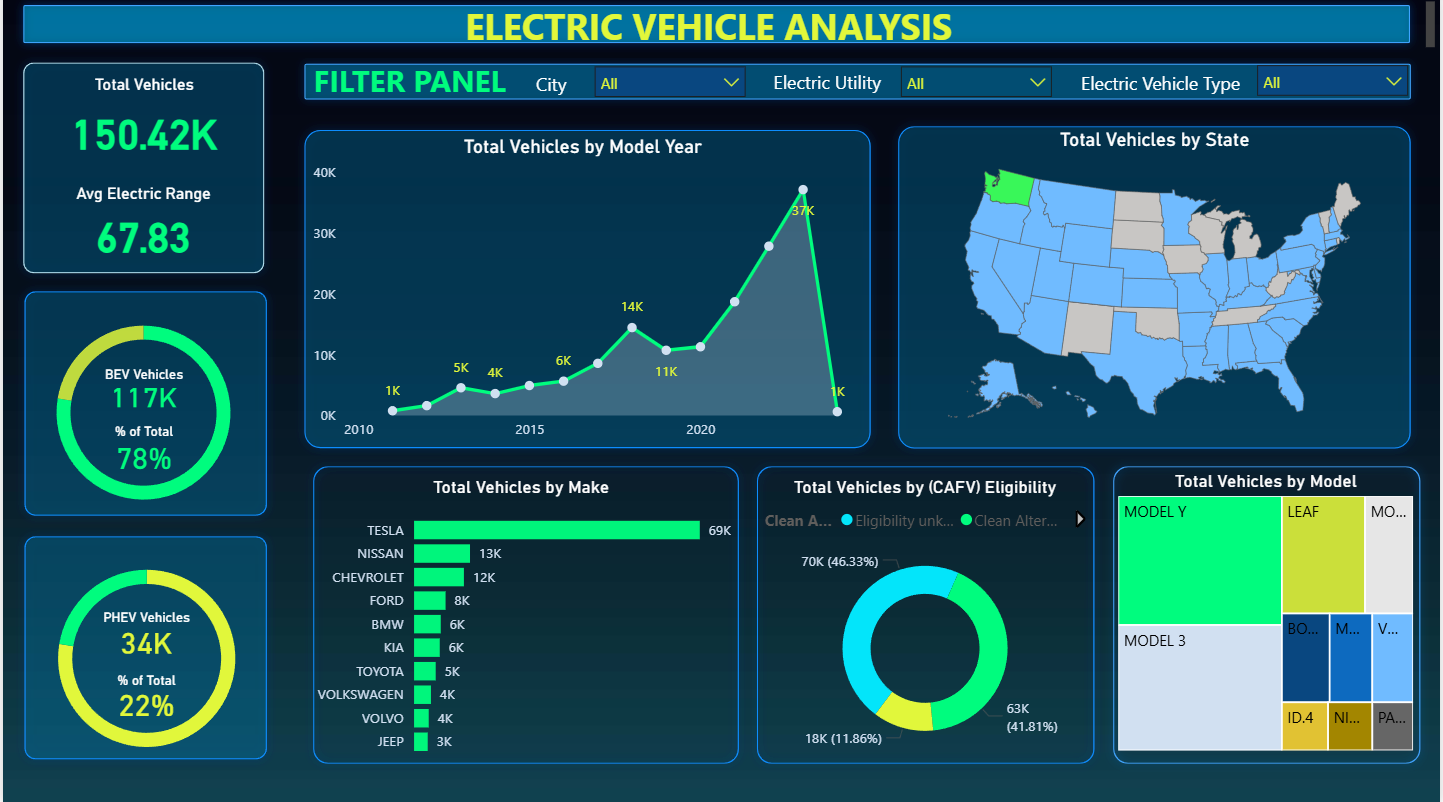

The dashboard page shown, as its layout file describes it:
{"tool":"powerbi","page":{"name":"Electric Vehicle Analysis","canvas":[1280,720],"ordinal":0},"visuals":[{"type":"shape","box":[10,0,1251,50],"z":0},{"type":"textbox","box":[406.1,0,873.6,51.5],"z":1000},{"type":"shape","box":[9.8,51.5,230.7,203.7],"z":2000},{"type":"card","title":"Total Vehicles","fields":{"Values":["Electric_Vehicle_Population_Data.Total Vehicles"]},"box":[22,70,207.2,83.7],"z":3000},{"type":"card","title":"Avg Electric Range","fields":{"Values":["Avg(Electric_Vehicle_Population_Data.Electric Range)"]},"box":[22,167.4,205.8,74.1],"z":4000},{"type":"shape","box":[11,255.2,231.9,216],"z":5000},{"type":"shape","box":[11,473.6,231.9,214.7],"z":6000},{"type":"donutChart","fields":{"Category":["Electric_Vehicle_Population_Data.Electric Vehicle Type"],"Y":["Electric_Vehicle_Population_Data.Total Vehicles"]},"box":[22.1,269.9,206.1,203.7],"z":7000},{"type":"card","title":"BEV Vehicles","fields":{"Values":["Electric_Vehicle_Population_Data.BEV Vehicles"]},"box":[61.4,329.1,128.8,41.7],"z":8000},{"type":"card","title":"% of Total","fields":{"Values":["Electric_Vehicle_Population_Data.% of BEV"]},"box":[61.4,380.6,128.8,46.6],"z":9000},{"type":"donutChart","fields":{"Category":["Electric_Vehicle_Population_Data.Electric Vehicle Type"],"Y":["Electric_Vehicle_Population_Data.Total Vehicles"]},"box":[24.5,481,207.4,218.4],"z":10000},{"type":"card","title":"PHEV Vehicles","fields":{"Values":["Electric_Vehicle_Population_Data.PHEV Vehicles"]},"box":[63.3,546,128.8,44.2],"z":11000},{"type":"card","title":"% of Total","fields":{"Values":["Electric_Vehicle_Population_Data.% of PHEV"]},"box":[63.3,602.5,128.8,44.2],"z":12000},{"type":"shape","box":[260.1,52.8,1001.2,47.9],"z":13000},{"type":"shape","box":[260.1,111.7,520.2,299.4],"z":14000},{"type":"areaChart","fields":{"Category":["Electric_Vehicle_Population_Data.Model Year"],"Y":["Electric_Vehicle_Population_Data.Total Vehicles"]},"box":[271.2,123.9,489.6,281],"z":15000},{"type":"shape","box":[789,108,472.4,303.1],"z":16000},{"type":"shapeMap","fields":{"Category":["Electric_Vehicle_Population_Data.State"],"Value":["Electric_Vehicle_Population_Data.Total Vehicles"]},"box":[804.9,117.8,441.7,274.8],"z":17000},{"type":"shape","box":[268.7,411,395.1,281],"z":18000},{"type":"barChart","fields":{"Category":["Electric_Vehicle_Population_Data.Make"],"Y":["Electric_Vehicle_Population_Data.Total Vehicles"]},"box":[268.7,428.2,386.5,257.7],"z":19000},{"type":"shape","box":[663.8,411,316.6,281],"z":20000},{"type":"donutChart","title":"Total Vehicles by  (CAFV) Eligibility","fields":{"Category":["Electric_Vehicle_Population_Data.Clean Alternative Fuel Vehicle (CAFV) Eligibility"],"Y":["Electric_Vehicle_Population_Data.Total Vehicles"]},"box":[673.6,428.2,295.7,257.7],"z":21000},{"type":"shape","box":[980.4,411,289.6,281],"z":22000},{"type":"treemap","fields":{"Group":["Electric_Vehicle_Population_Data.Model"],"Values":["Electric_Vehicle_Population_Data.Total Vehicles"]},"box":[989,423.3,272.4,254],"z":23000},{"type":"textbox","box":[271.2,52.8,268.7,52.8],"z":24000},{"type":"slicer","fields":{"Values":["Electric_Vehicle_Population_Data.City"]},"box":[516.6,52.8,154.6,67.5],"z":25000},{"type":"textbox","box":[469.2,61.8,160.7,54],"z":26000},{"type":"slicer","fields":{"Values":["Electric_Vehicle_Population_Data.Electric Utility"]},"box":[789,52.8,154.6,67.5],"z":27000},{"type":"textbox","box":[681,60.1,160.7,54],"z":28000},{"type":"slicer","fields":{"Values":["Electric_Vehicle_Population_Data.Electric Vehicle Type"]},"box":[1106.8,51.5,154.6,67.5],"z":29000},{"type":"textbox","box":[954.6,61.4,160.7,54],"z":30000}]}

Visuals, with their boxes in screenshot pixels (x1, y1, x2, y2), scaled from the page's 1280x720 canvas onto the 1443x802 screenshot:
shape: left=11, top=0, right=1422, bottom=56
textbox: left=458, top=0, right=1442, bottom=57
shape: left=11, top=57, right=271, bottom=284
"Total Vehicles" card: left=25, top=78, right=258, bottom=171
"Avg Electric Range" card: left=25, top=186, right=257, bottom=269
shape: left=12, top=284, right=274, bottom=525
shape: left=12, top=528, right=274, bottom=767
donutChart - Electric_Vehicle_Population_Data.Electric Vehicle Type x Electric_Vehicle_Population_Data.Total Vehicles: left=25, top=301, right=257, bottom=528
"BEV Vehicles" card: left=69, top=367, right=214, bottom=413
"% of Total" card: left=69, top=424, right=214, bottom=476
donutChart - Electric_Vehicle_Population_Data.Electric Vehicle Type x Electric_Vehicle_Population_Data.Total Vehicles: left=28, top=536, right=261, bottom=779
"PHEV Vehicles" card: left=71, top=608, right=217, bottom=657
"% of Total" card: left=71, top=671, right=217, bottom=720
shape: left=293, top=59, right=1422, bottom=112
shape: left=293, top=124, right=880, bottom=458
areaChart - Electric_Vehicle_Population_Data.Model Year x Electric_Vehicle_Population_Data.Total Vehicles: left=306, top=138, right=858, bottom=451
shape: left=889, top=120, right=1422, bottom=458
shapeMap - Electric_Vehicle_Population_Data.State x Electric_Vehicle_Population_Data.Total Vehicles: left=907, top=131, right=1405, bottom=437
shape: left=303, top=458, right=748, bottom=771
barChart - Electric_Vehicle_Population_Data.Make x Electric_Vehicle_Population_Data.Total Vehicles: left=303, top=477, right=739, bottom=764
shape: left=748, top=458, right=1105, bottom=771
"Total Vehicles by  (CAFV) Eligibility" donutChart: left=759, top=477, right=1093, bottom=764
shape: left=1105, top=458, right=1432, bottom=771
treemap - Electric_Vehicle_Population_Data.Model x Electric_Vehicle_Population_Data.Total Vehicles: left=1115, top=472, right=1422, bottom=754
textbox: left=306, top=59, right=609, bottom=118
slicer - Electric_Vehicle_Population_Data.City: left=582, top=59, right=757, bottom=134
textbox: left=529, top=69, right=710, bottom=129
slicer - Electric_Vehicle_Population_Data.Electric Utility: left=889, top=59, right=1064, bottom=134
textbox: left=768, top=67, right=949, bottom=127
slicer - Electric_Vehicle_Population_Data.Electric Vehicle Type: left=1248, top=57, right=1422, bottom=133
textbox: left=1076, top=68, right=1257, bottom=129
